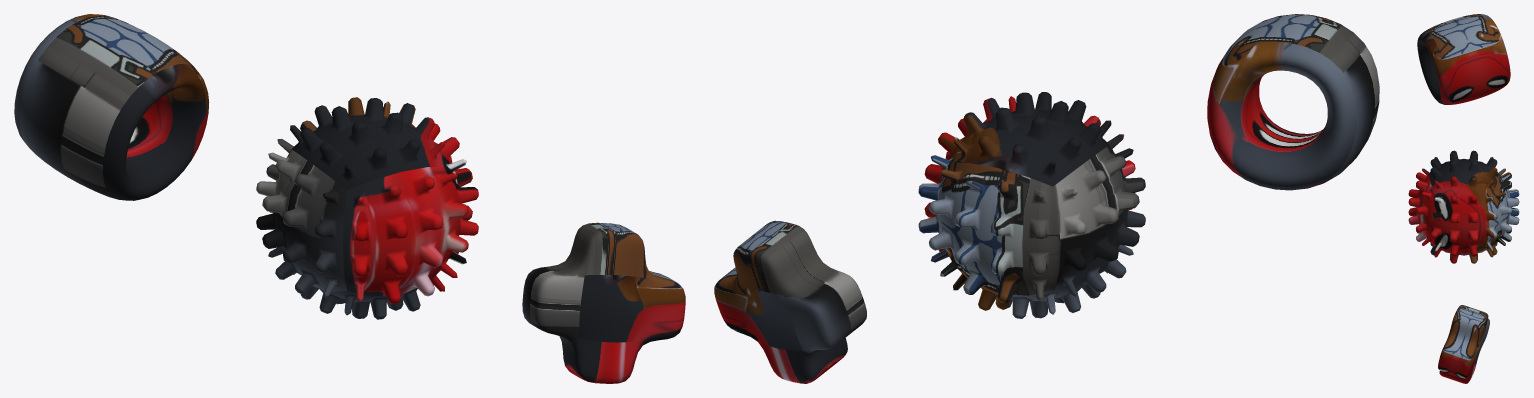
3 views of the same model, side by side, from view 1: azimuth 30°, elevation 25°; view 2: azimuth 150°, elevation 25°; view 3: azimuth 270°, elevation 25° (orthographic). The views are drawn at different scales.
Parts seen in each view (by area): view 1: Cube, Cube.002, Cube.001; view 2: Cube, Cube.002, Cube.001; view 3: Cube, Cube.002, Cube.001.
Boxes of the visible parts, x1,y1,x2,y2 form: Cube: [256, 97, 478, 319]; Cube.002: [14, 14, 209, 200]; Cube.001: [522, 222, 685, 383]; Cube: [918, 92, 1145, 318]; Cube.002: [1207, 14, 1379, 190]; Cube.001: [714, 220, 866, 383]; Cube: [1408, 150, 1519, 263]; Cube.002: [1417, 14, 1510, 104]; Cube.001: [1438, 305, 1489, 383].
Size of the model in its own units: 18.35 by 12.78 by 5.39.
Materials: 1 (1 with a texture image).
